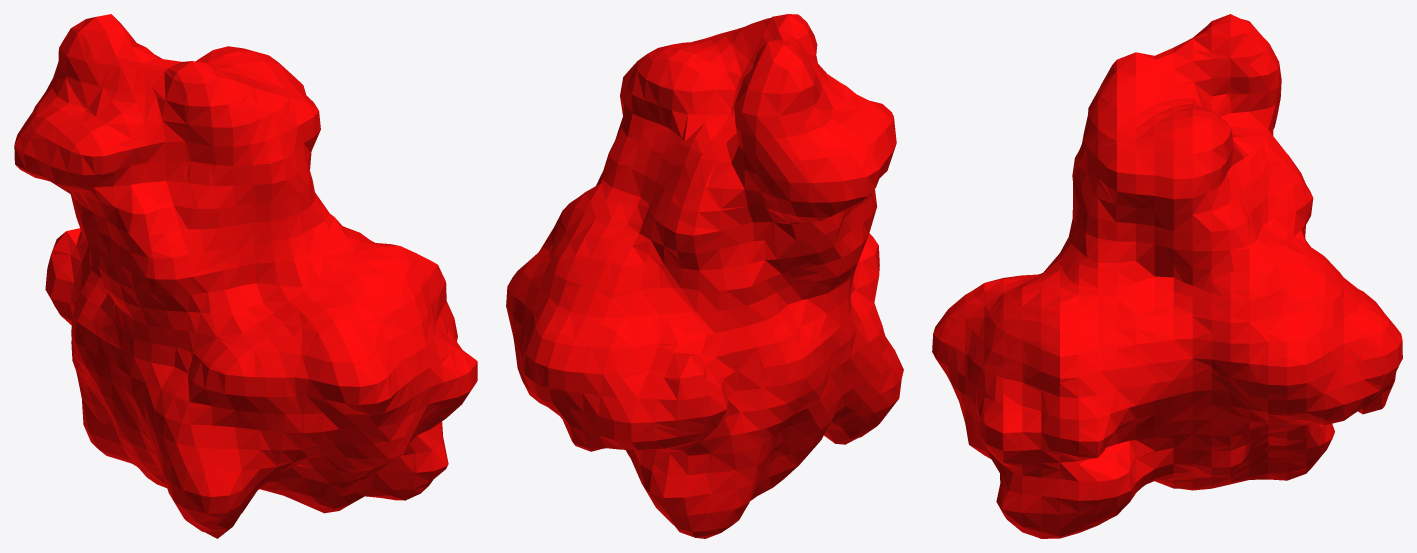
File: ydhS_coarse.dae
3 views of the same model, side by side, from view 1: azimuth 30°, elevation 25°; view 2: azimuth 150°, elevation 25°; view 3: azimuth 270°, elevation 25° (orthographic). The views are drawn at different scales.
Parts seen in each view (by area): view 1: ydhS; view 2: ydhS; view 3: ydhS.
Part boxes in pixels (left/top/right/bottom): ydhS: left=14, top=14, right=477, bottom=538; ydhS: left=506, top=14, right=903, bottom=538; ydhS: left=932, top=14, right=1402, bottom=538.
Bounding box in the file's own units: 60.82 × 75.47 × 72.94.
